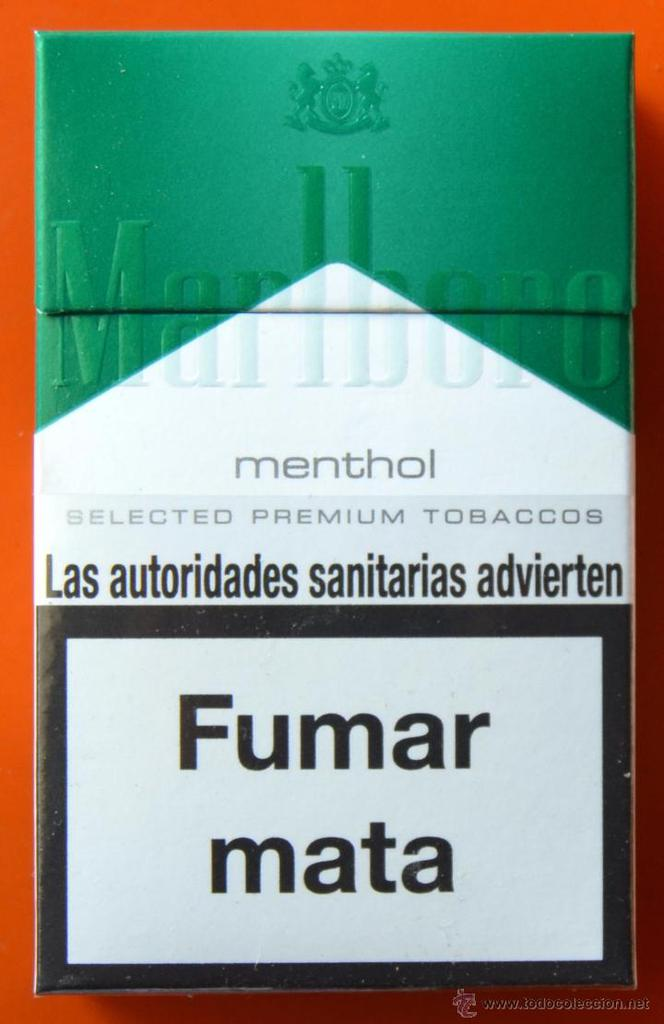marlboro_mentol: (39, 36, 633, 985)
